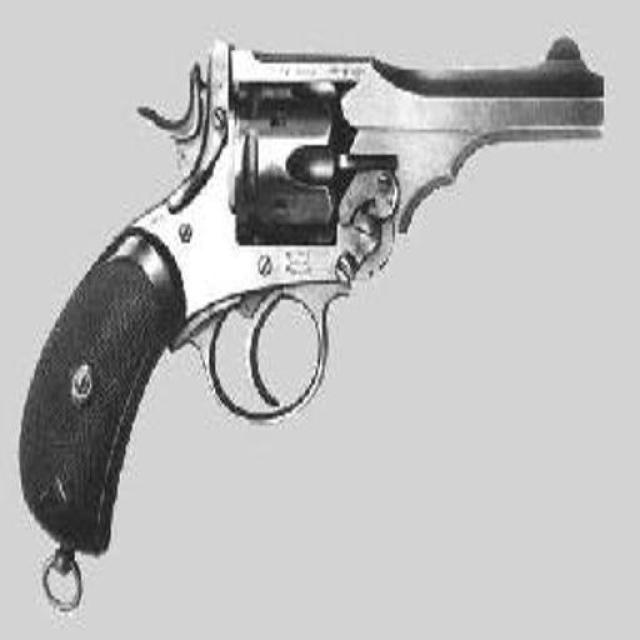pistol: (16, 34, 602, 545)
